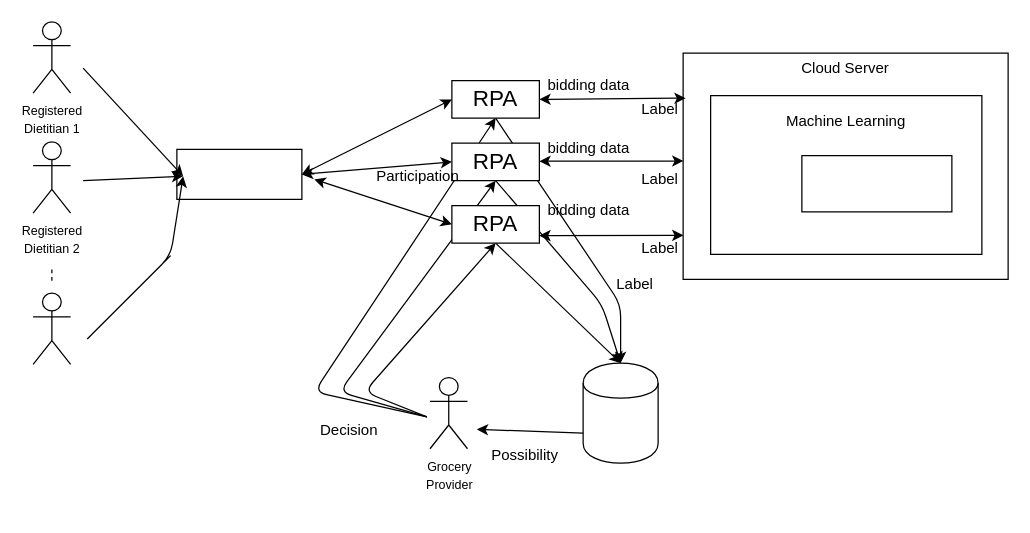
The diagram is 1030 pixels wide and 533 high, and some of its shapes have lost their labels. Each missing label, with the centre of its shape:
"Bidding System" belongs at (x=239, y=173).
"Grocery DB" belongs at (x=620, y=412).
"Registered Dietitian n" belongs at (x=51, y=328).
"Text Normalization Model" belongs at (x=876, y=183).
